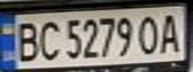2: (78, 15, 100, 60)
5: (60, 16, 84, 61)
7: (97, 14, 118, 58)
9: (115, 12, 139, 57)
A: (157, 10, 184, 54)
B: (9, 18, 42, 63)
C: (36, 17, 63, 62)
O: (136, 11, 163, 55)
